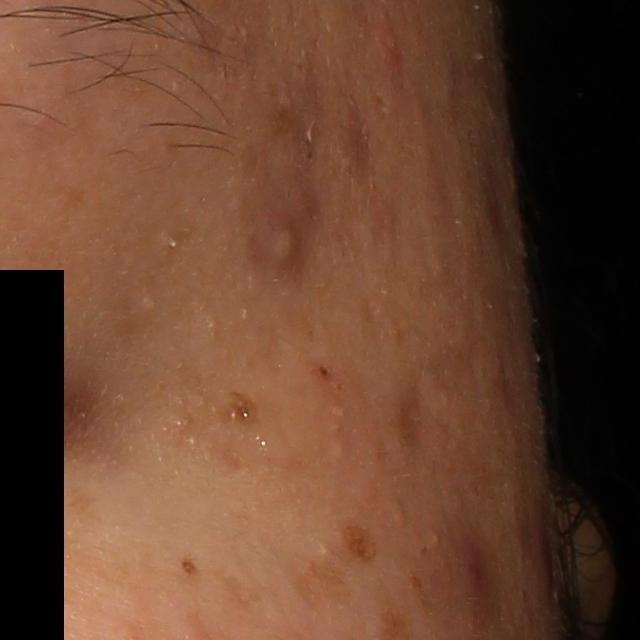comedo: (135, 289, 160, 318)
melasma: (285, 552, 359, 608), (340, 521, 380, 564), (223, 389, 257, 424)
nevus: (180, 556, 199, 578)
